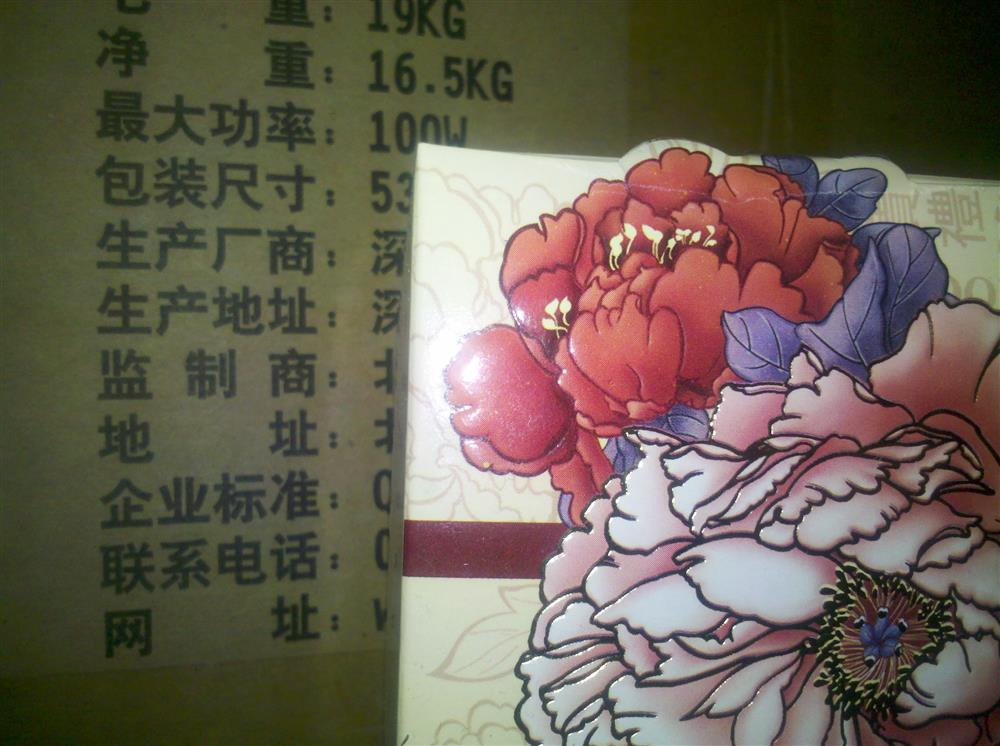mooncake_box: (387, 138, 994, 739)
